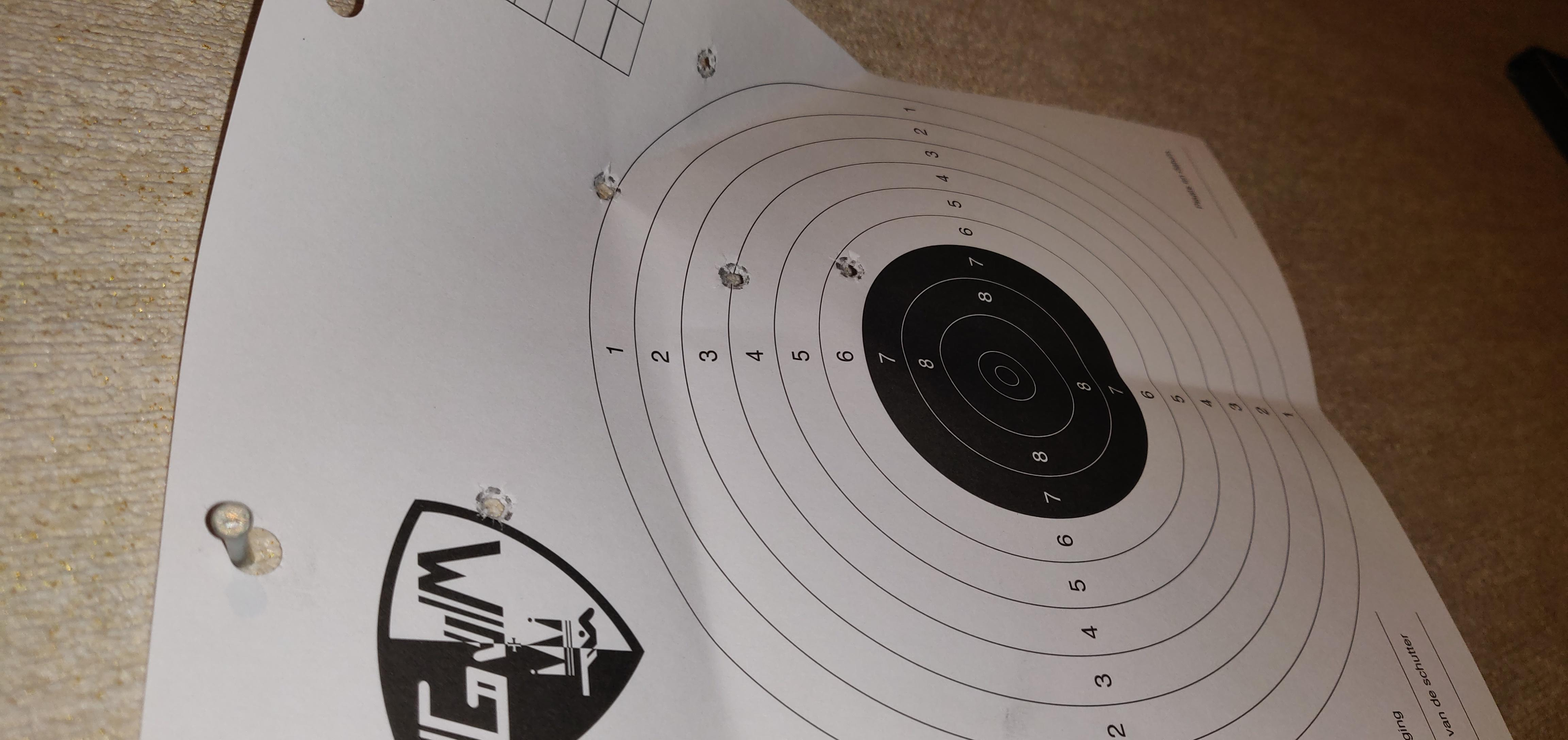hole: (465, 222, 534, 244), (1145, 278, 1216, 294), (1398, 327, 1476, 341), (954, 339, 1021, 355), (972, 393, 1039, 409)
